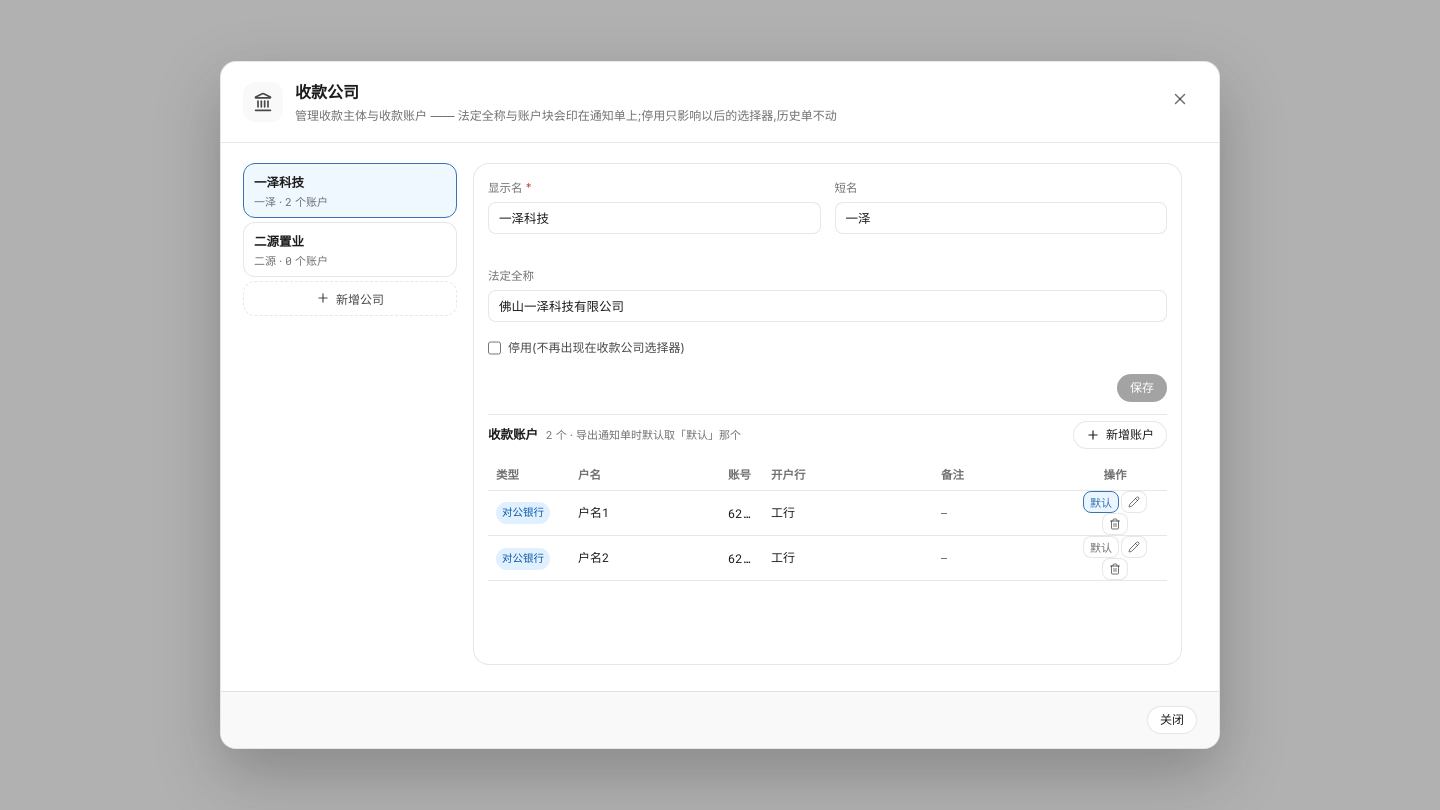
Scenario: 收款公司 › ❗没有账户的公司:空状态换掉账户表
Click the button with class "cw-item" showing "二源置业 二源 · 0 个账户": click(350, 249) [243,222,457,277]
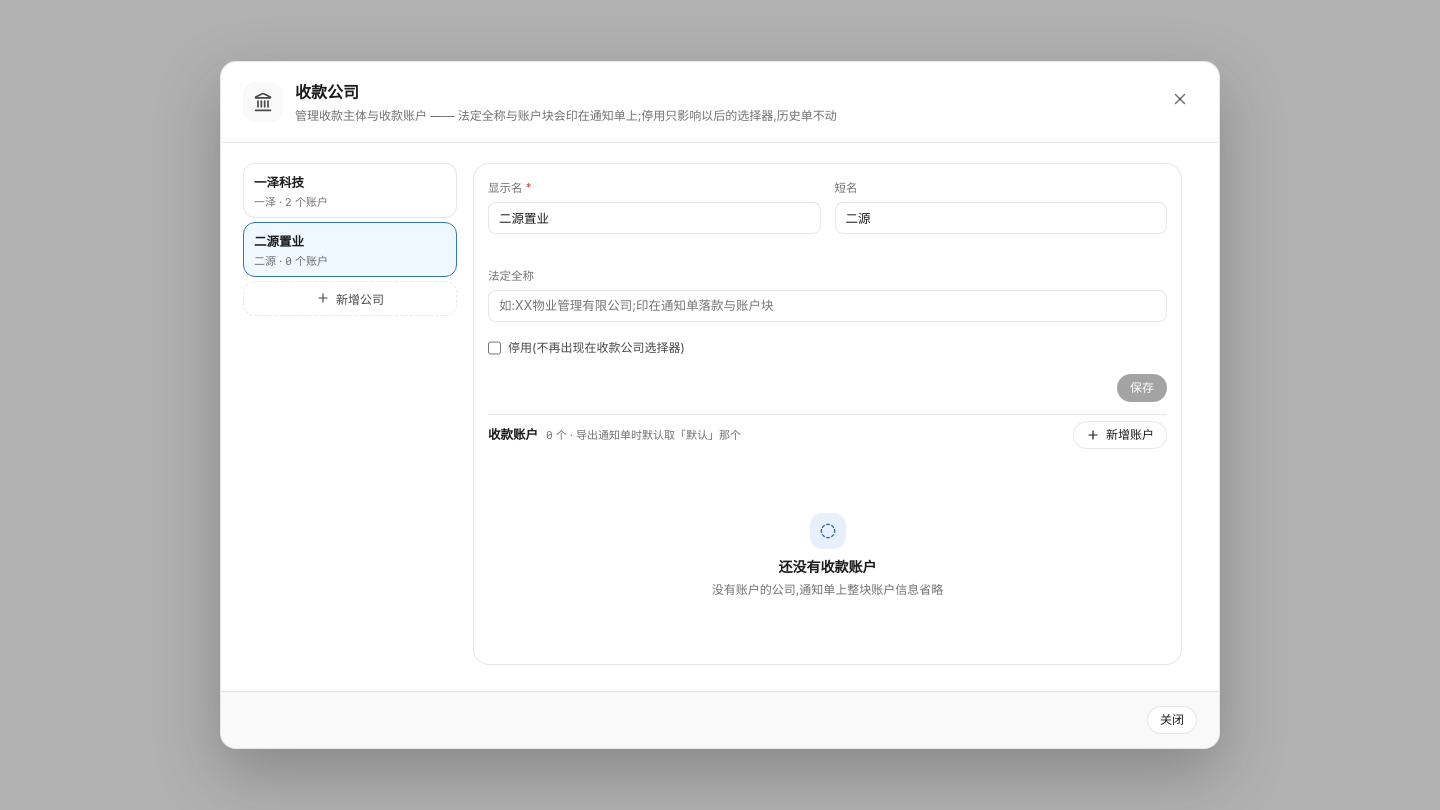
Expected: the element with class "fp-empty" shows "还没有收款账户", [778,558,876,574]
